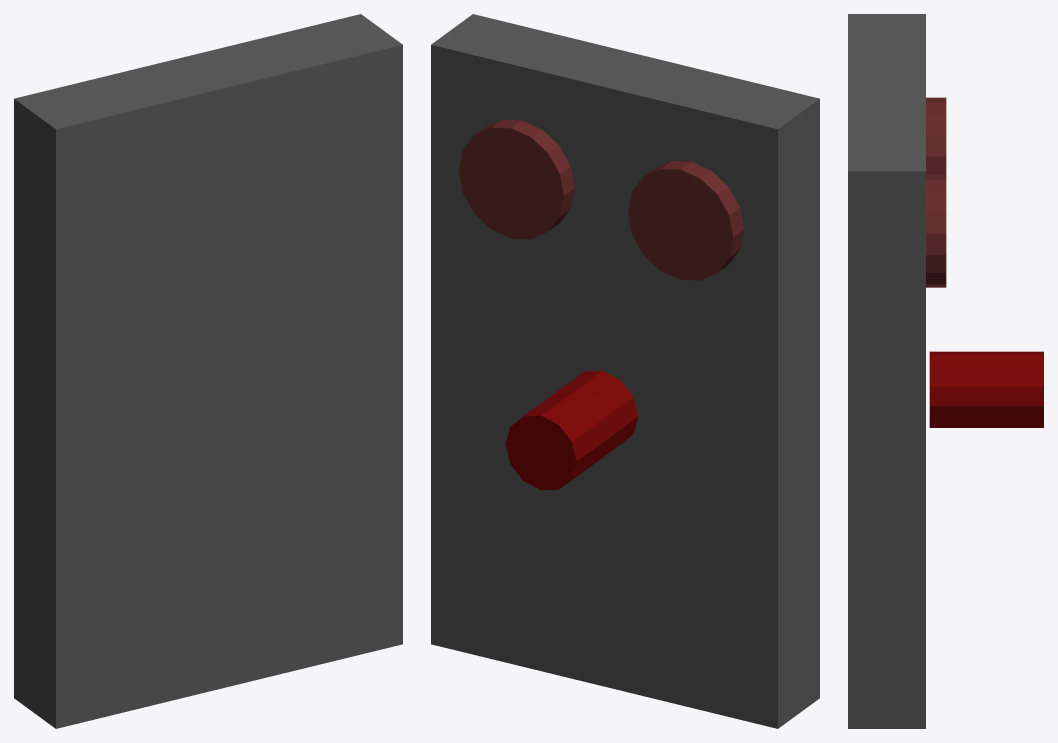
Rendered from manual_override_wallmount.fbx.
3 renders of one model, left to right at view 1: azimuth 30°, elevation 25°; view 2: azimuth 150°, elevation 25°; view 3: azimuth 270°, elevation 25°, orthographic. The views are drawn at different scales.
Parts seen in each view (by area): view 1: manualoverride_mount; view 2: manualoverride_mount; view 3: manualoverride_mount.
Part boxes in pixels (x1=…): manualoverride_mount: x1=14, y1=14, x2=402, y2=728; manualoverride_mount: x1=431, y1=14, x2=819, y2=728; manualoverride_mount: x1=848, y1=14, x2=1043, y2=728.
Size of the model in its own units: 0.4 by 0.6605 by 0.2104.
